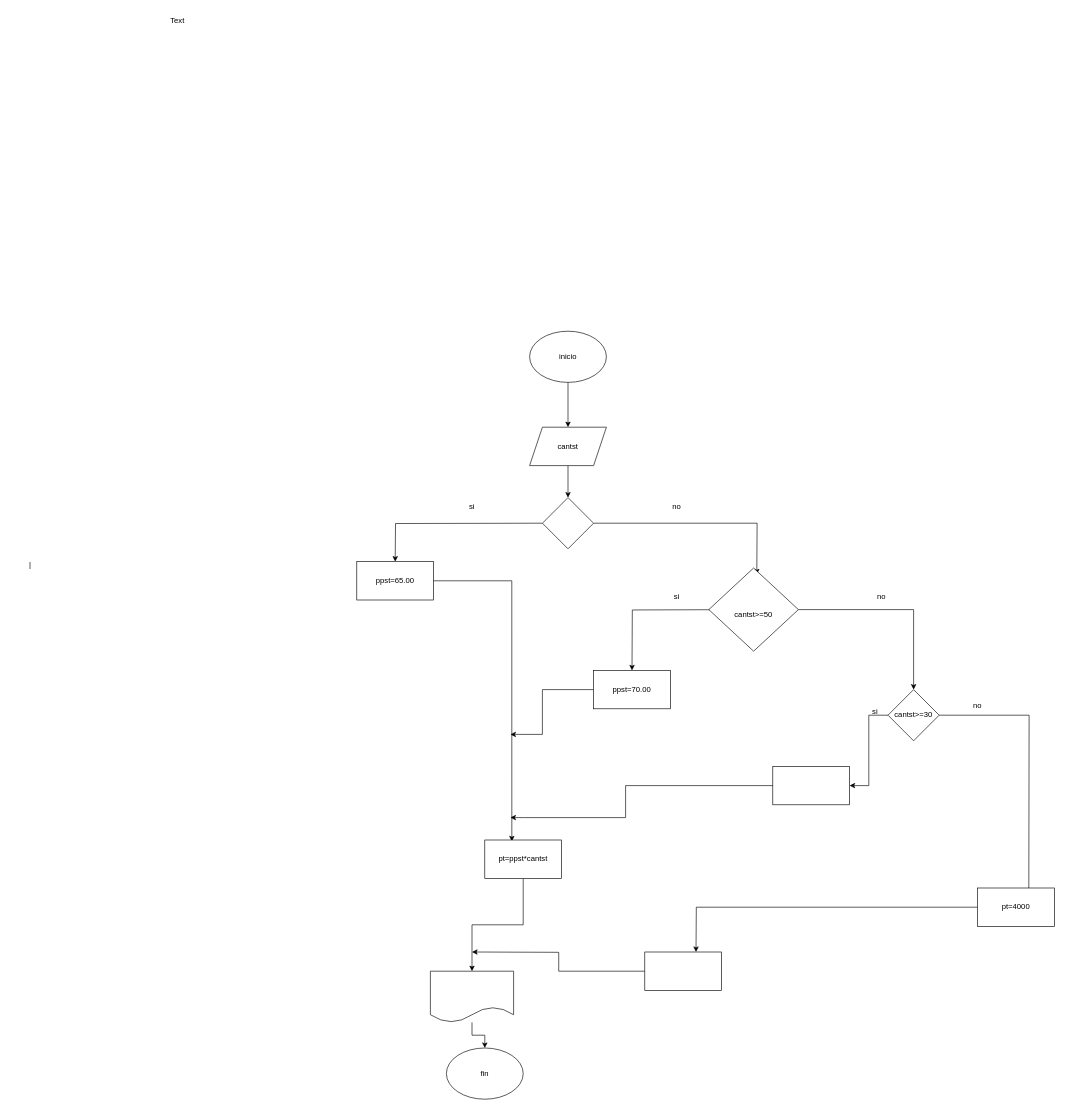
Image size: 1066x1110. Some labels were removed from this diagram. Each missing label, with the centre of its shape:
"cantst>=100" goes at [568,523].
"ppst=4000/cantst" goes at [683,970].
"ppst=95.00" goes at [811,785].
"pt,ppst" goes at [472,996].
